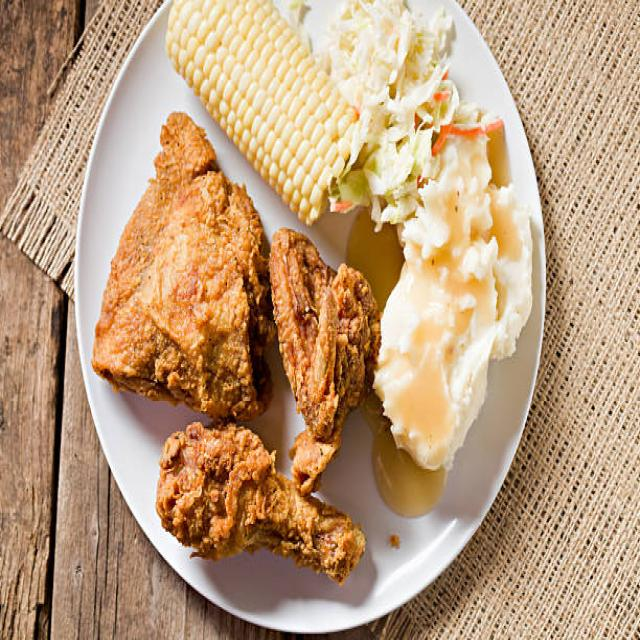Frango: (87, 108, 385, 604)
